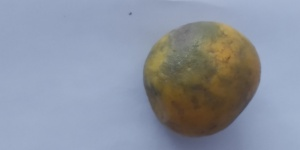BAD: (143, 19, 264, 137)
